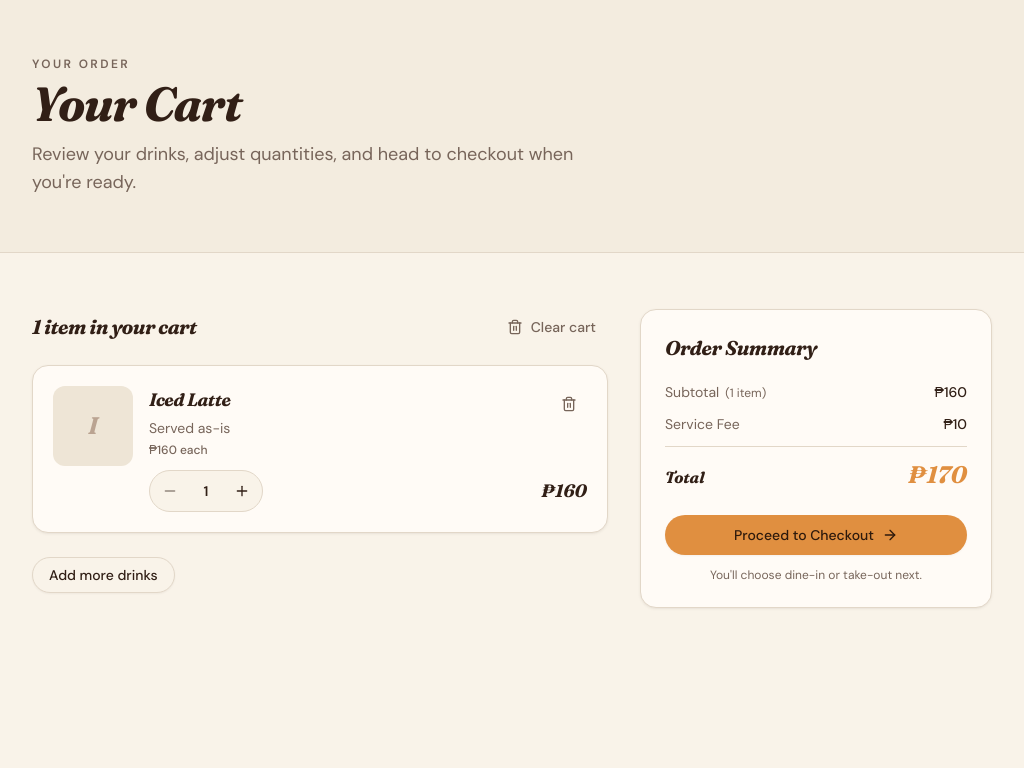
Test: CartPage › raises the quantity and the totals when the increase control is used
The width and height of the screenshot is (1024, 768).
Click the button with test id "cart.increase_button.1": (242, 491) [226,475,258,507]
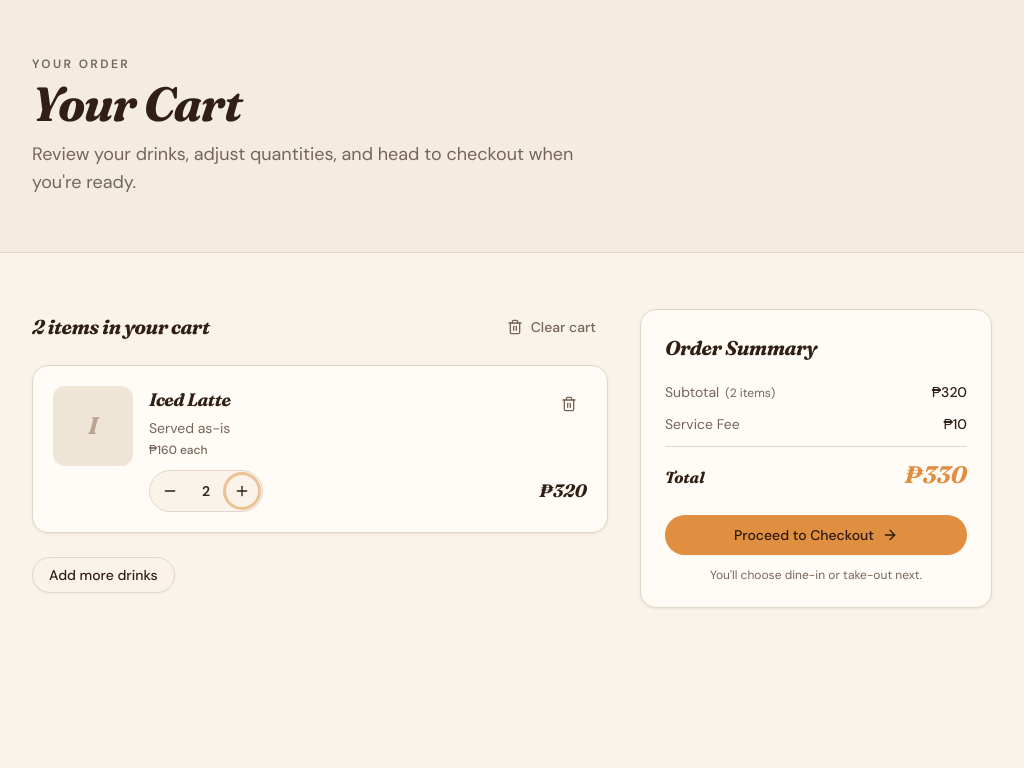
Result: the text with test id "cart.quantity.1" reads "2" at [202,482,210,500]
Result: the text with test id "cart.line_total.1" reads "₱320" at [539,479,587,502]
Result: the text with test id "cart.total" reads "₱330" at [904,460,967,489]
